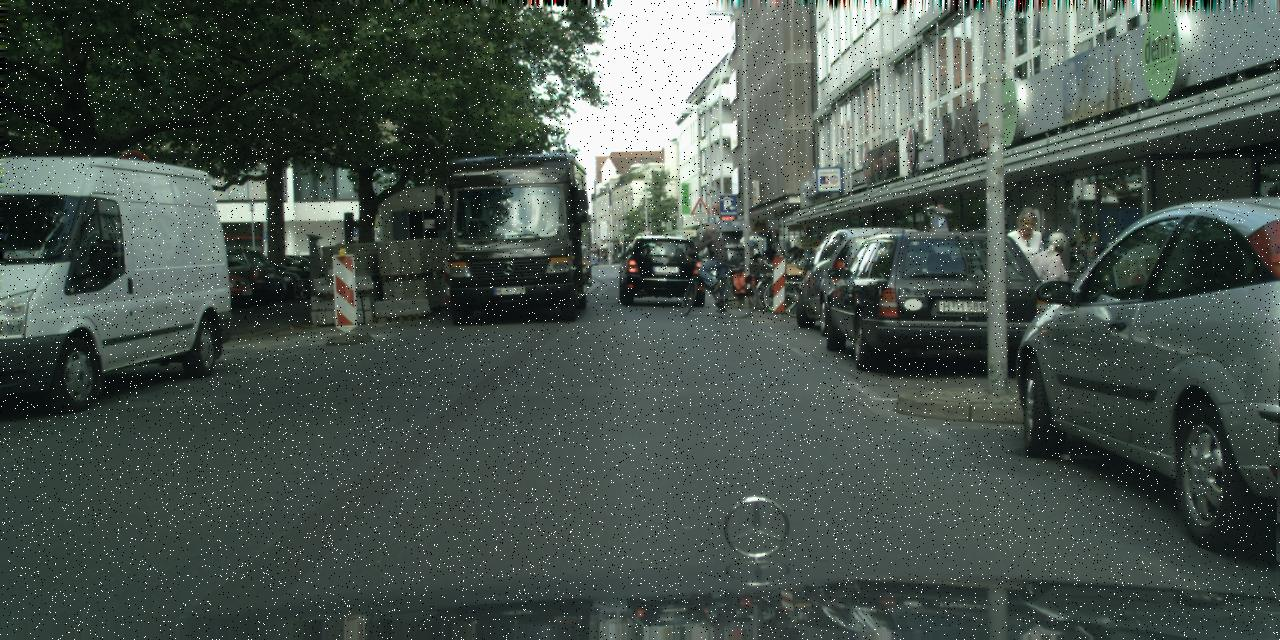ped: (1000, 207, 1048, 325), (1036, 231, 1077, 331), (698, 221, 730, 301), (787, 246, 814, 264), (773, 241, 784, 267), (765, 244, 776, 270), (751, 245, 761, 272)
